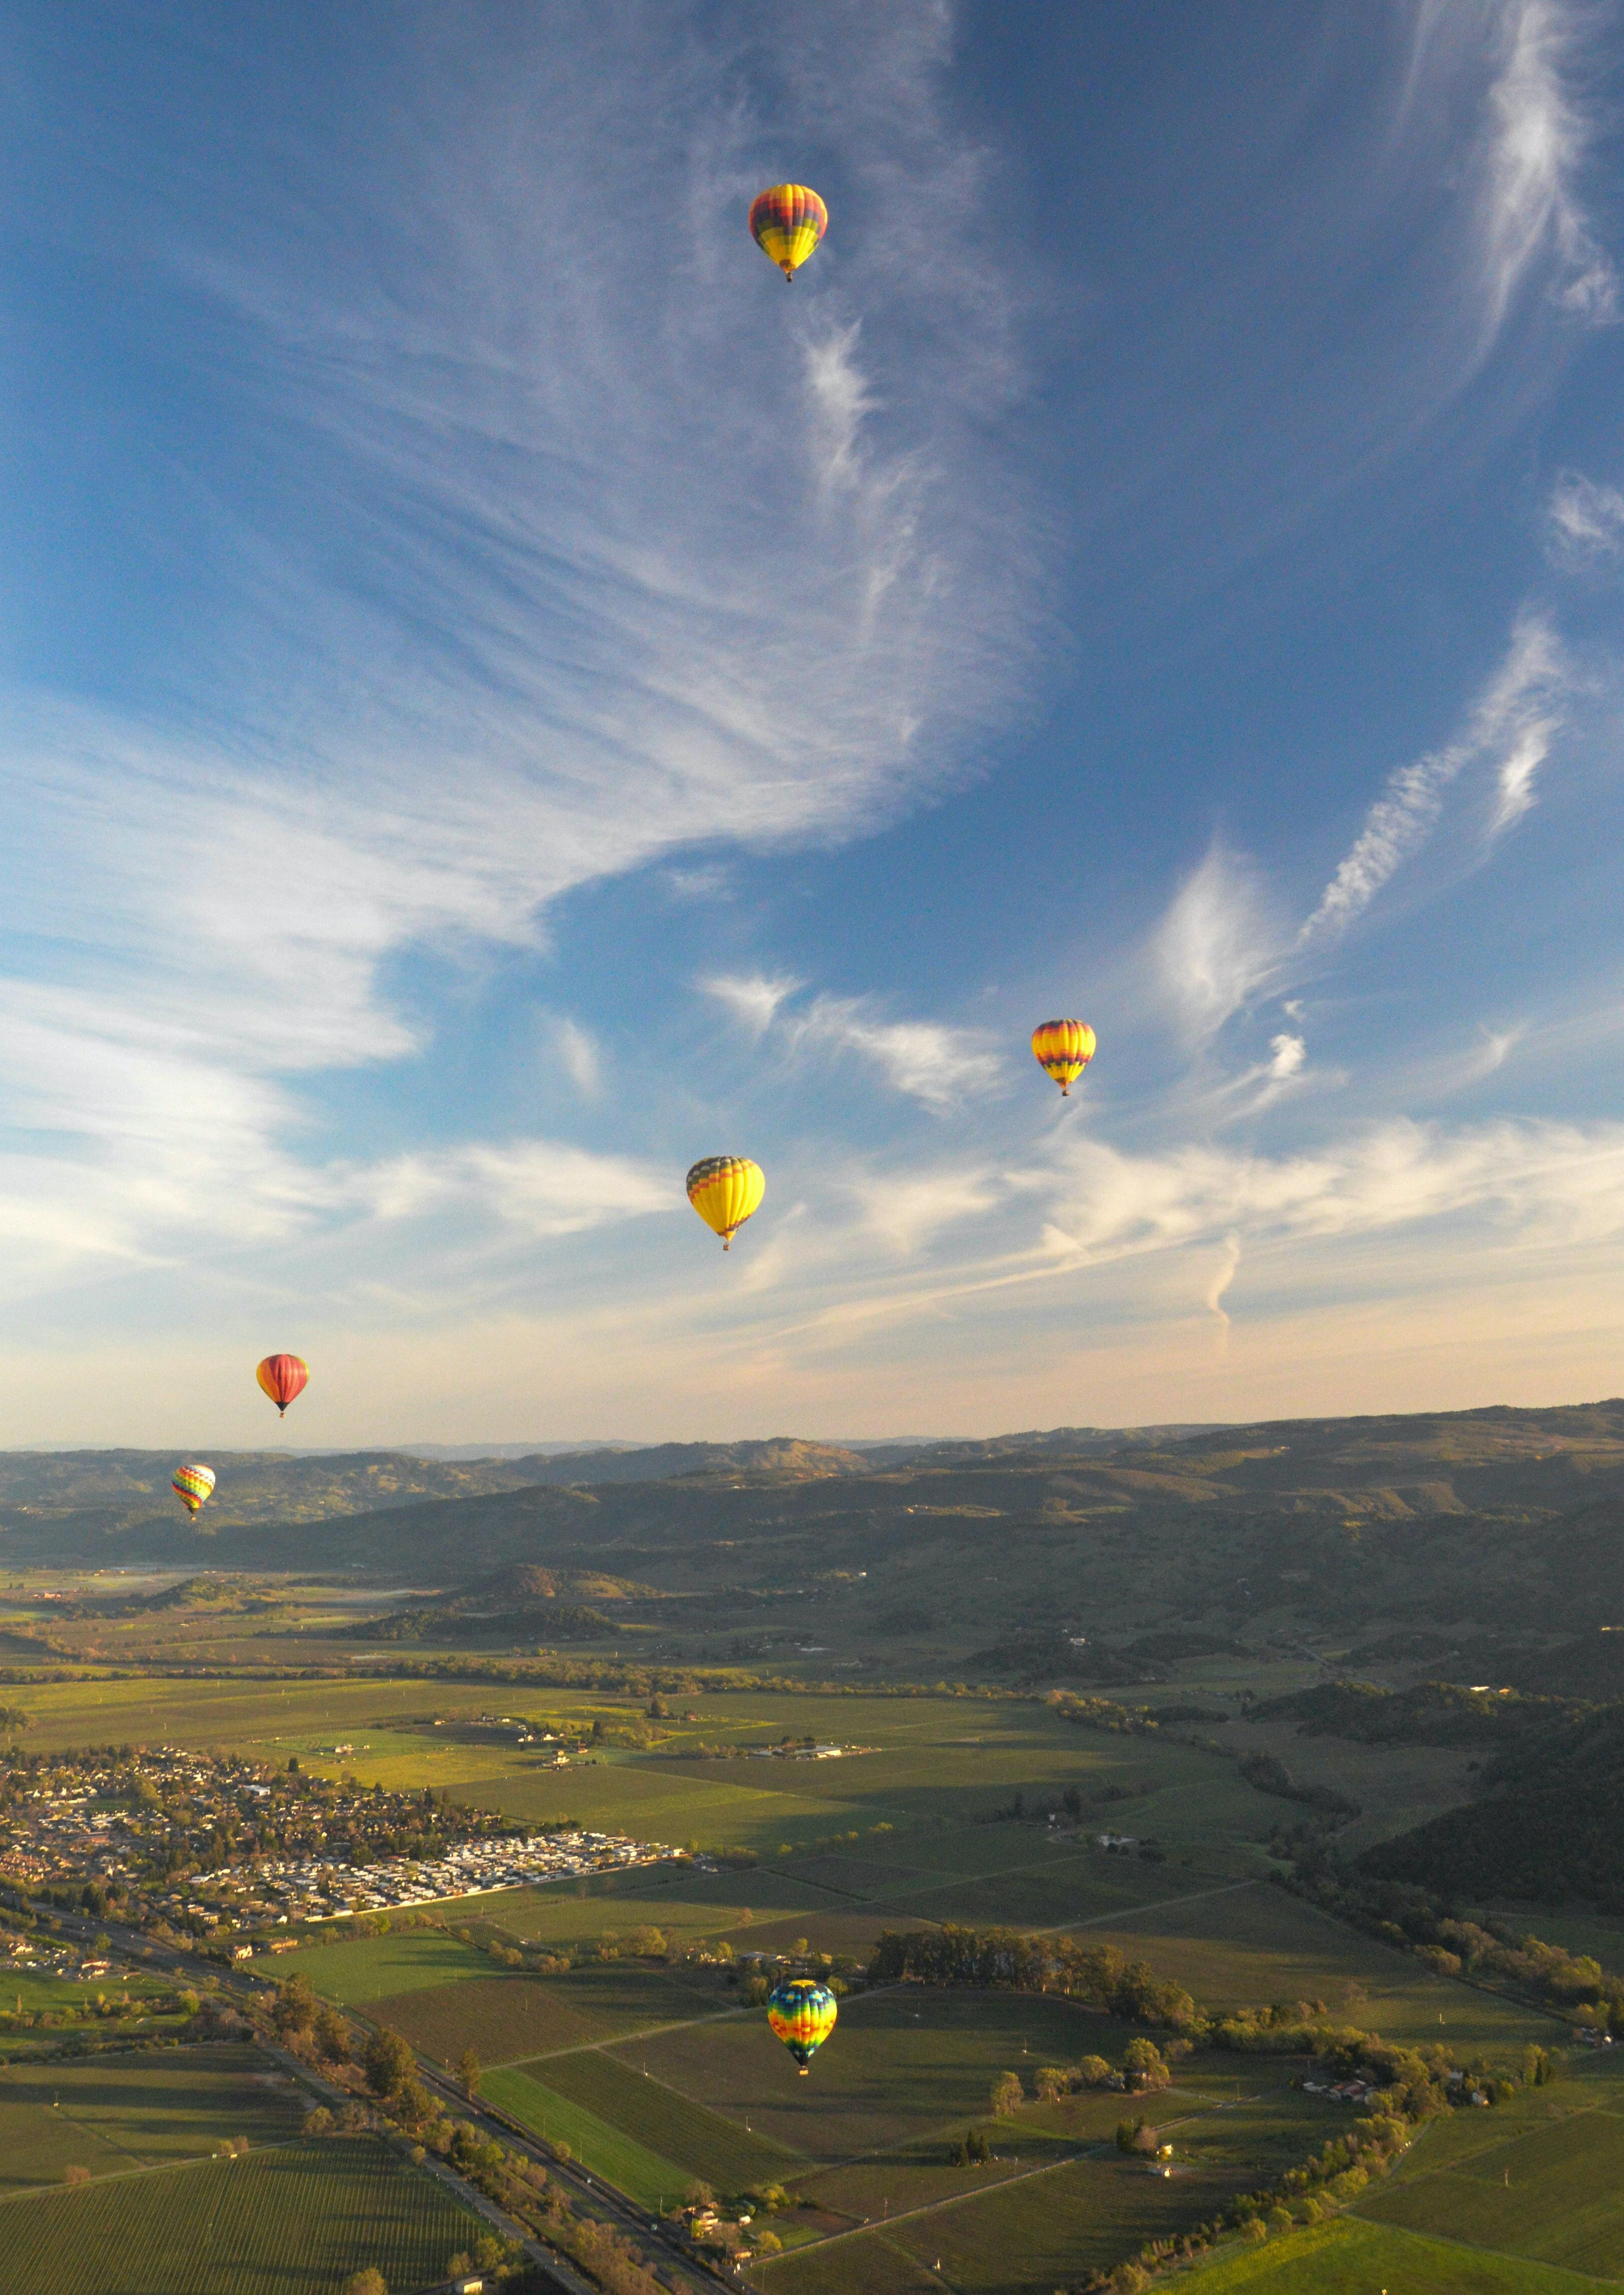hot air ballon: (749, 185, 830, 283), (687, 1156, 766, 1251), (766, 1980, 837, 2075), (1032, 1019, 1095, 1097), (255, 1355, 308, 1416), (172, 1466, 214, 1522)
